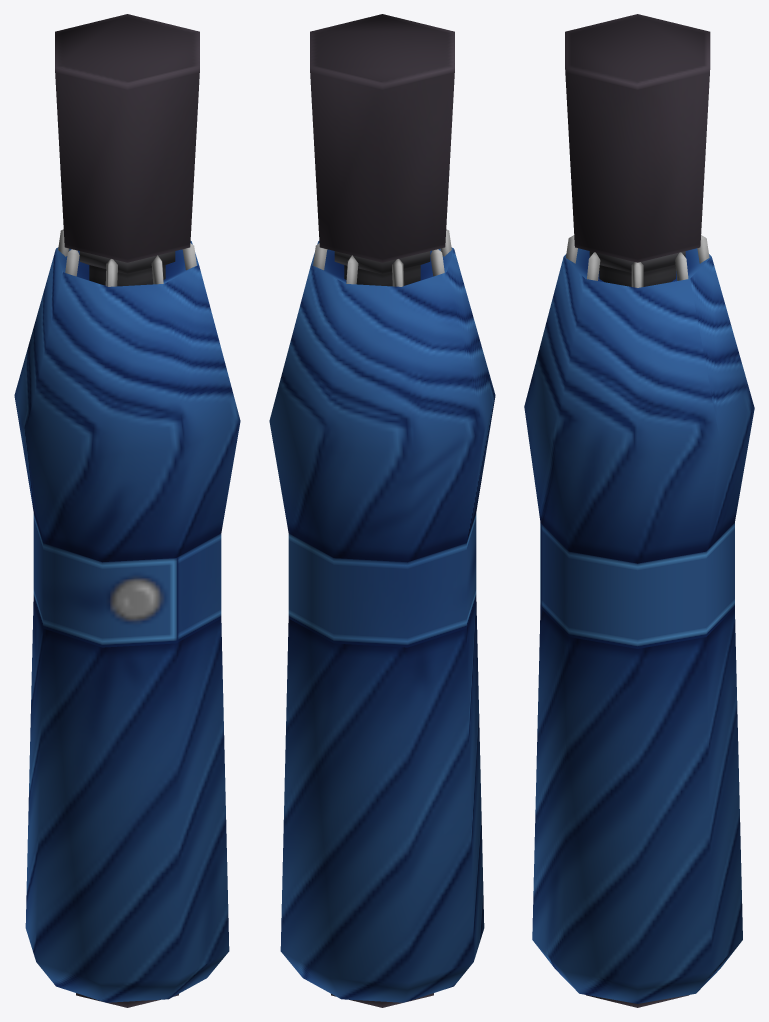
The model's file is set_foldingumbrella_07.fbx.
3 renders of one model, left to right at view 1: azimuth 30°, elevation 25°; view 2: azimuth 150°, elevation 25°; view 3: azimuth 270°, elevation 25°, orthographic.
Visible parts, largest first — view 1: foldingumbrella_07, handle_07; view 2: foldingumbrella_07, handle_07; view 3: foldingumbrella_07, handle_07.
Boxes of the visible parts, x1,y1,x2,y2 form: foldingumbrella_07: [14, 229, 240, 1007]; handle_07: [55, 14, 199, 262]; foldingumbrella_07: [269, 229, 495, 1007]; handle_07: [310, 14, 454, 262]; foldingumbrella_07: [524, 235, 754, 1007]; handle_07: [565, 14, 710, 262].
Size of the model in its own units: 5.4 by 23.75 by 5.31.
